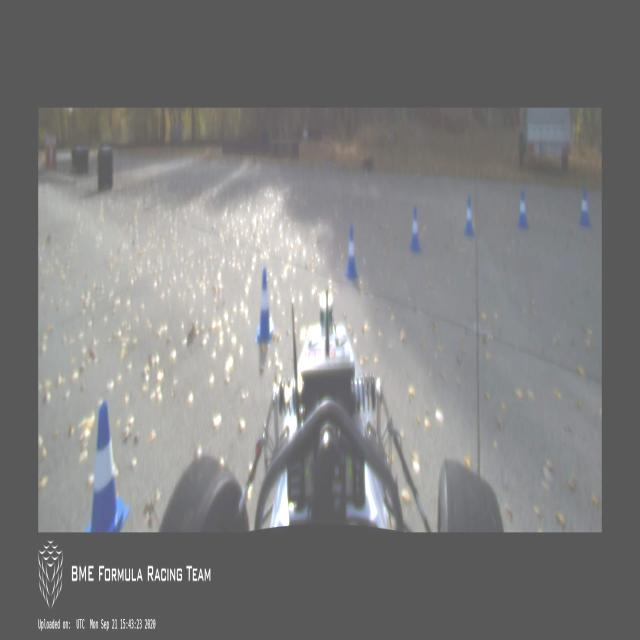blue_cone: (85, 397, 131, 531), (256, 268, 274, 342), (345, 226, 359, 282), (578, 184, 592, 230), (409, 205, 421, 253), (463, 194, 475, 237), (517, 188, 529, 228)
